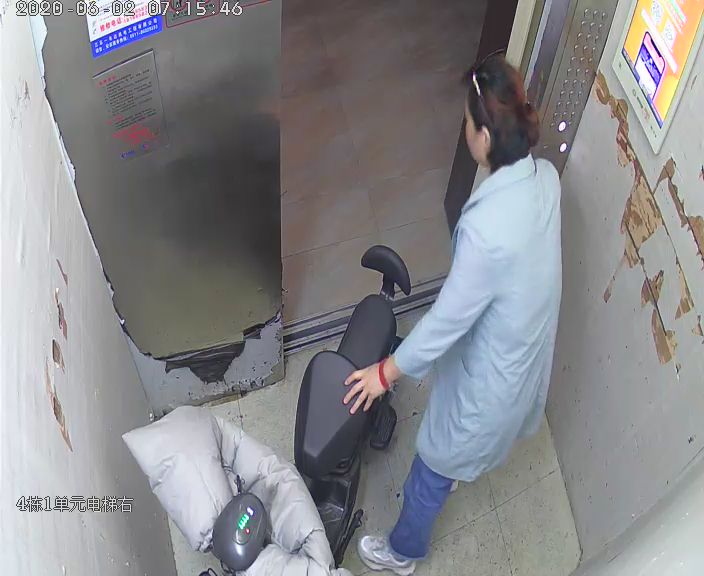Electric-bicycle: (123, 241, 415, 576)
